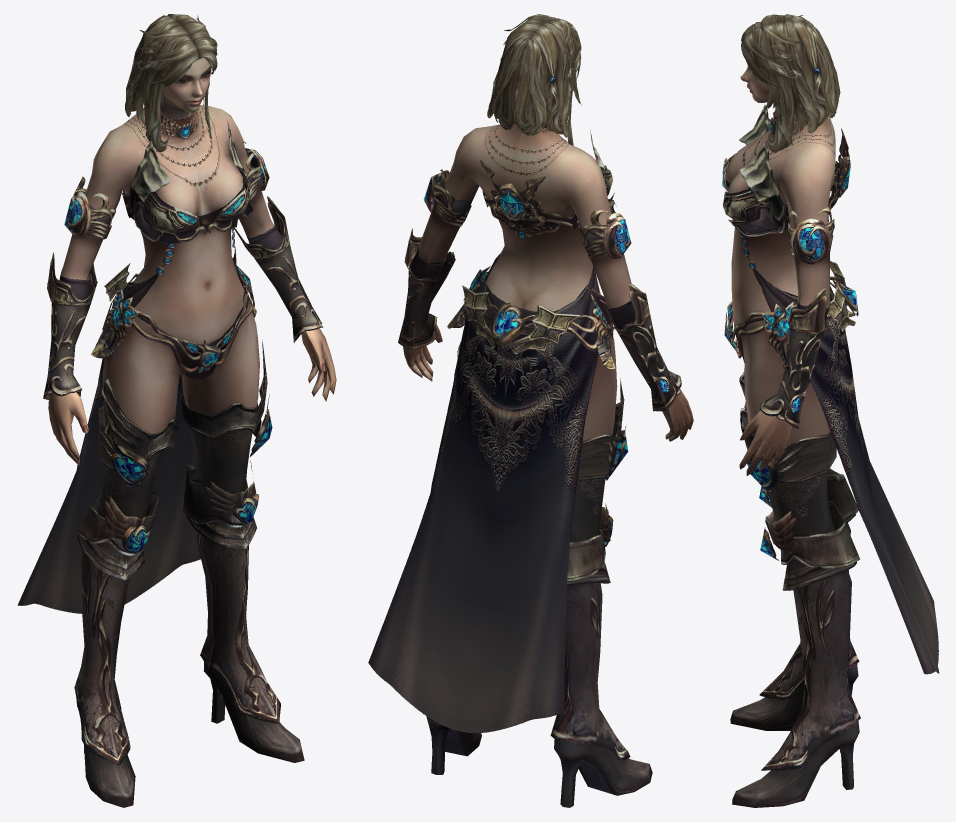
The model's file is Elementalsit.obj.
The picture shows the model from 3 angles, left to right: view 1: azimuth 30°, elevation 25°; view 2: azimuth 150°, elevation 25°; view 3: azimuth 270°, elevation 25°; orthographic projection.
Parts seen in each view (by area): view 1: SUN_Onlin06, SUN_Onlin03, SUN_Onlin04, SUN_Onlin05, SUN_Onlin01, SUN_Onlin02; view 2: SUN_Onlin06, SUN_Onlin04, SUN_Onlin03, SUN_Onlin01, SUN_Onlin05; view 3: SUN_Onlin06, SUN_Onlin03, SUN_Onlin04, SUN_Onlin01, SUN_Onlin05, SUN_Onlin02.
Boxes of the visible parts, left/top/right/bottom form: SUN_Onlin06: left=17, top=223, right=272, bottom=613; SUN_Onlin03: left=74, top=460, right=304, bottom=807; SUN_Onlin04: left=51, top=105, right=290, bottom=308; SUN_Onlin05: left=43, top=196, right=336, bottom=465; SUN_Onlin01: left=125, top=14, right=217, bottom=152; SUN_Onlin02: left=143, top=57, right=211, bottom=119; SUN_Onlin06: left=368, top=220, right=628, bottom=733; SUN_Onlin04: left=409, top=119, right=650, bottom=331; SUN_Onlin03: left=426, top=503, right=652, bottom=807; SUN_Onlin01: left=487, top=14, right=581, bottom=145; SUN_Onlin05: left=398, top=228, right=693, bottom=441; SUN_Onlin06: left=724, top=227, right=939, bottom=674; SUN_Onlin03: left=730, top=468, right=860, bottom=807; SUN_Onlin04: left=722, top=105, right=850, bottom=336; SUN_Onlin01: left=741, top=14, right=840, bottom=152; SUN_Onlin05: left=737, top=216, right=829, bottom=475; SUN_Onlin02: left=740, top=60, right=796, bottom=116.
Bounding box in the file's own units: 8.08 × 20.81 × 5.59.
Materials: 3 (3 with a texture image).
